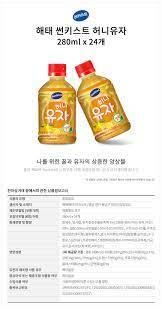honeyyuja: (77, 60, 135, 145), (37, 61, 77, 146)
